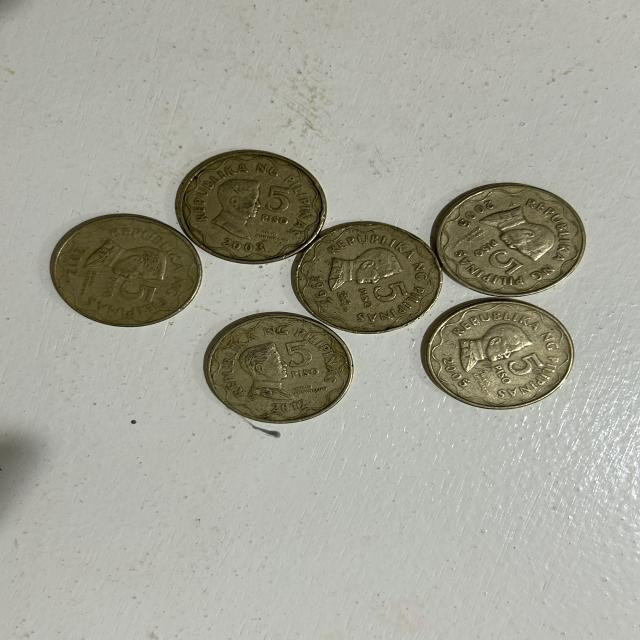5_Old_Front: (468, 234, 532, 289), (100, 273, 167, 313), (489, 354, 556, 387), (353, 278, 417, 312), (282, 336, 325, 380), (262, 184, 289, 229)
